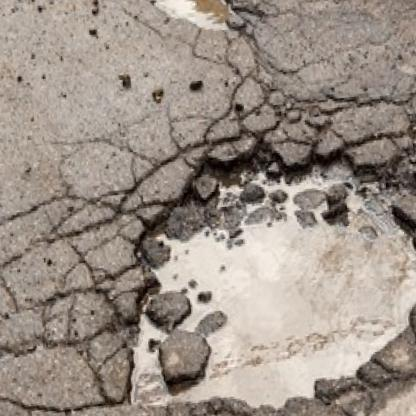pothole: (96, 119, 416, 416), (131, 0, 245, 47)
